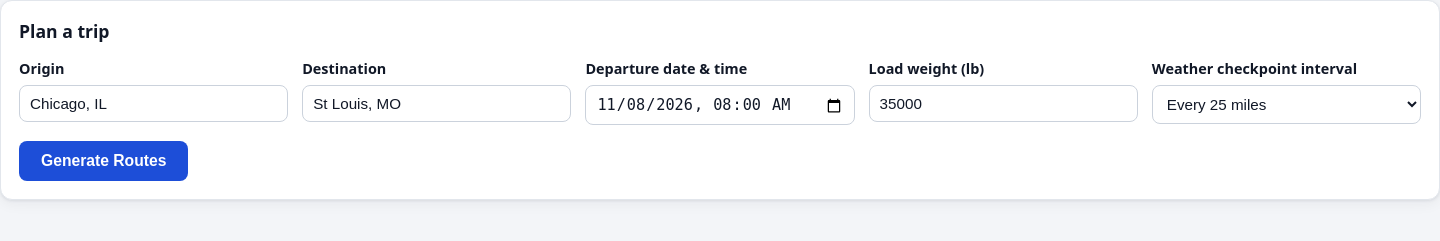
it: TripForm validation › blocks submission and shows errors for an empty origin
The image size is (1440, 241).
Clear the field labelled "Origin" at (154, 104), box [19, 85, 288, 122]
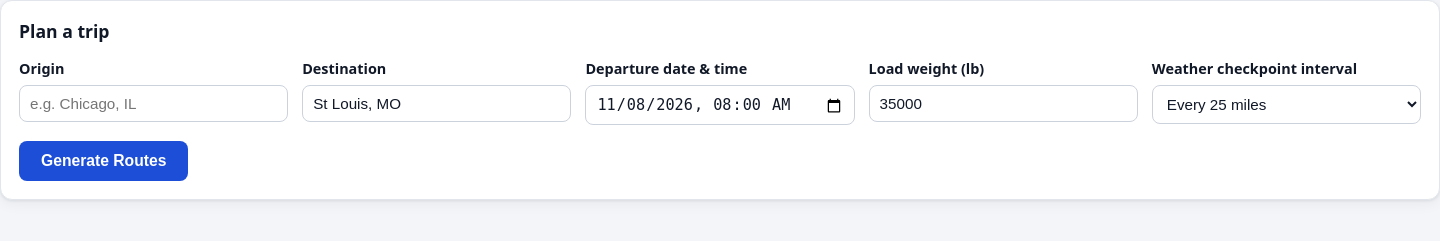
Click the button "Generate Routes" at (104, 161), box [19, 141, 188, 181]
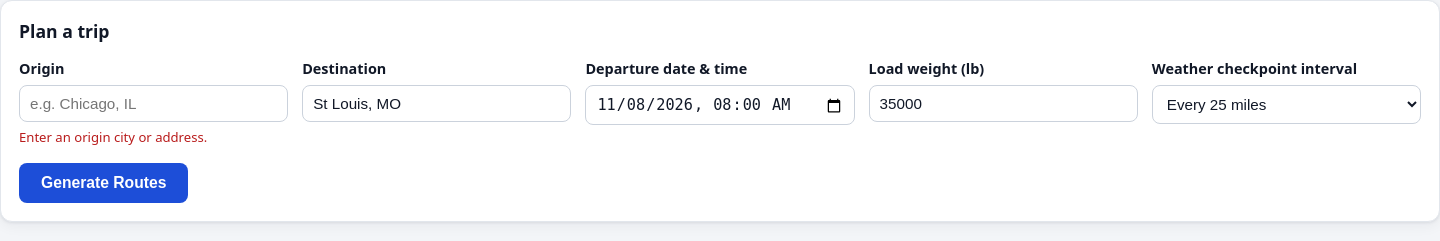
Expected: the text "Enter an origin city or address." is shown, [19, 128, 207, 146]
